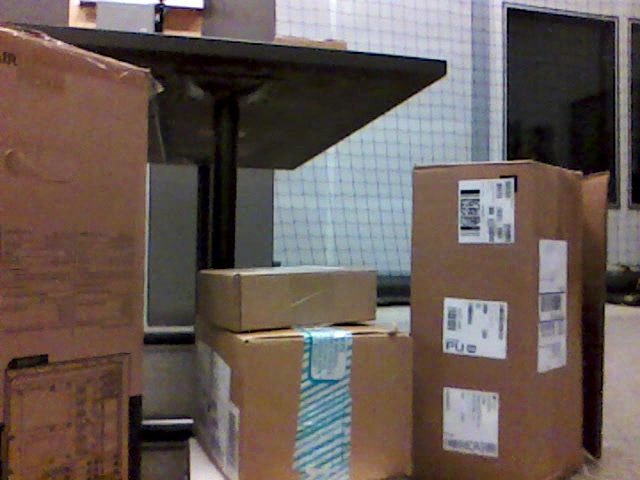box: (1, 26, 145, 480), (413, 162, 610, 480), (195, 315, 412, 477), (198, 266, 378, 329)
